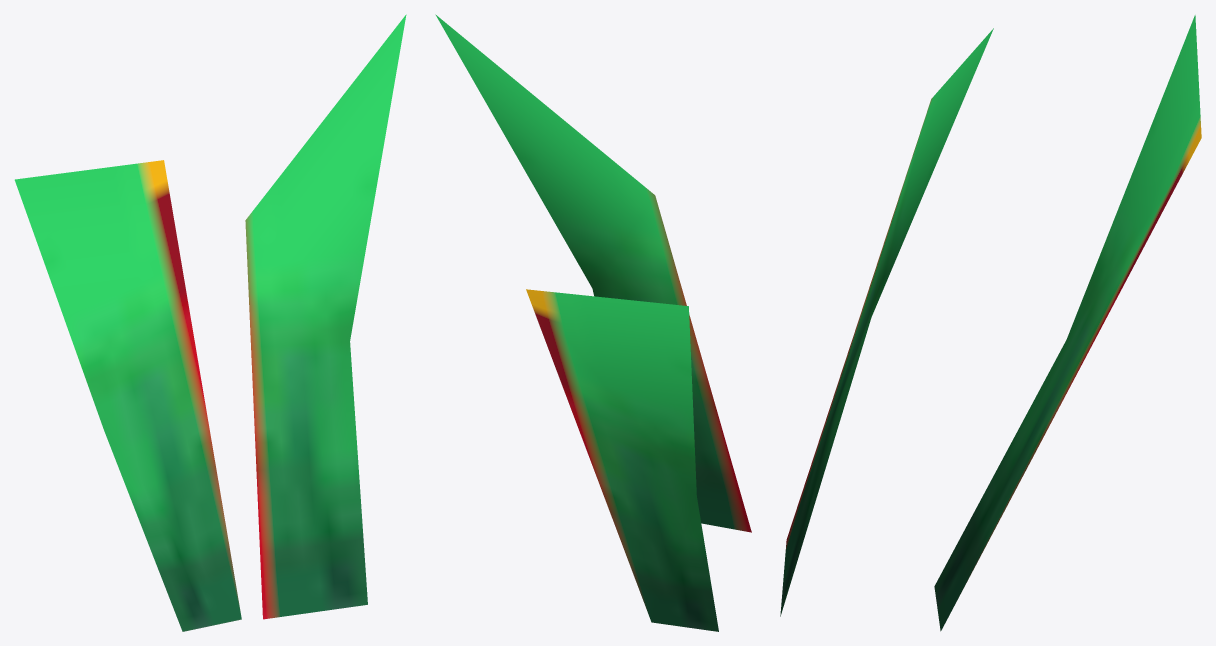
The model's file is fg_grassC.dae.
The picture shows the model from 3 angles, left to right: view 1: azimuth 30°, elevation 25°; view 2: azimuth 150°, elevation 25°; view 3: azimuth 270°, elevation 25°; orthographic projection. The views are drawn at different scales.
Visible parts, largest first — view 1: fg_grassC; view 2: fg_grassC; view 3: fg_grassC.
Boxes of the visible parts, box(x1,y1,x2,y2) form: fg_grassC: box(14, 14, 406, 631); fg_grassC: box(435, 14, 751, 631); fg_grassC: box(780, 15, 1201, 631).
Bounding box in the file's own units: 14.53 × 23.97 × 12.64.
1 material, 1 textured.
